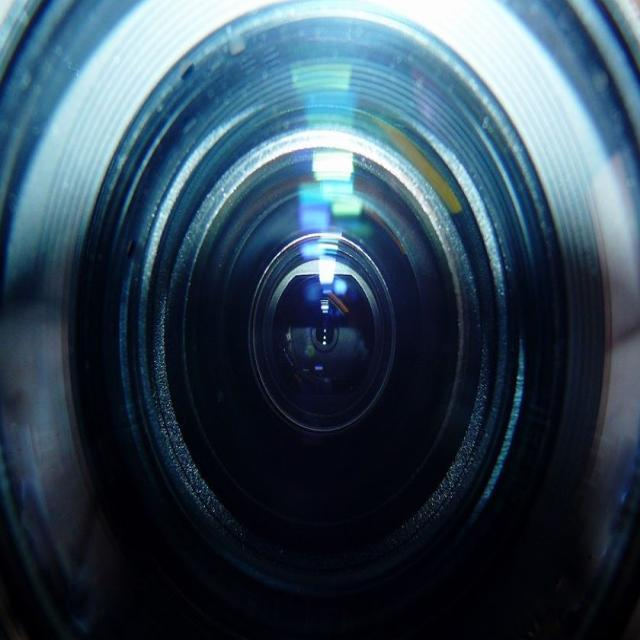hidden camera: (121, 55, 532, 637)
